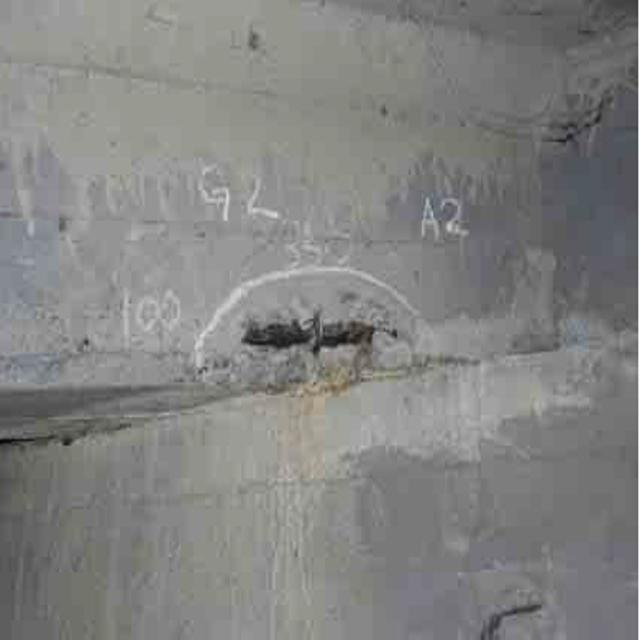spalling: (199, 270, 434, 393)
